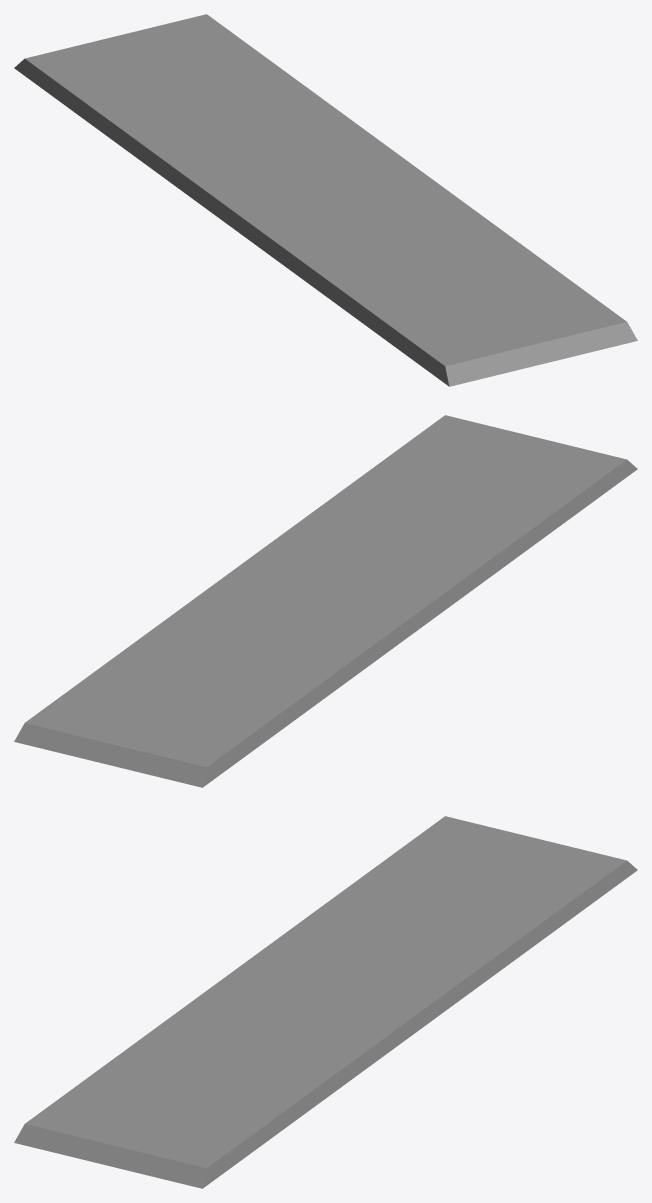
The model's file is sidewalk-01.glb.
3 views of the same model, one above another, from view 1: azimuth 30°, elevation 25°; view 2: azimuth 150°, elevation 25°; view 3: azimuth 330°, elevation 25° (orthographic).
Parts seen in each view (by area): view 1: sidewalk-01; view 2: sidewalk-01; view 3: sidewalk-01.
Boxes of the visible parts, x1=… form: sidewalk-01: x1=14, y1=14, x2=637, y2=386; sidewalk-01: x1=14, y1=415, x2=637, y2=787; sidewalk-01: x1=14, y1=816, x2=637, y2=1188.
Size of the model in its own units: 4 by 0.2897 by 16.
1 material, 1 textured.
